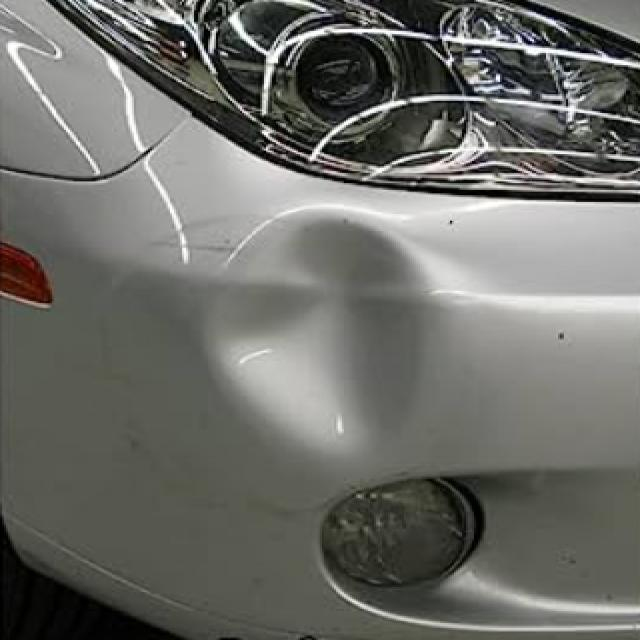dents: (201, 193, 435, 456)
